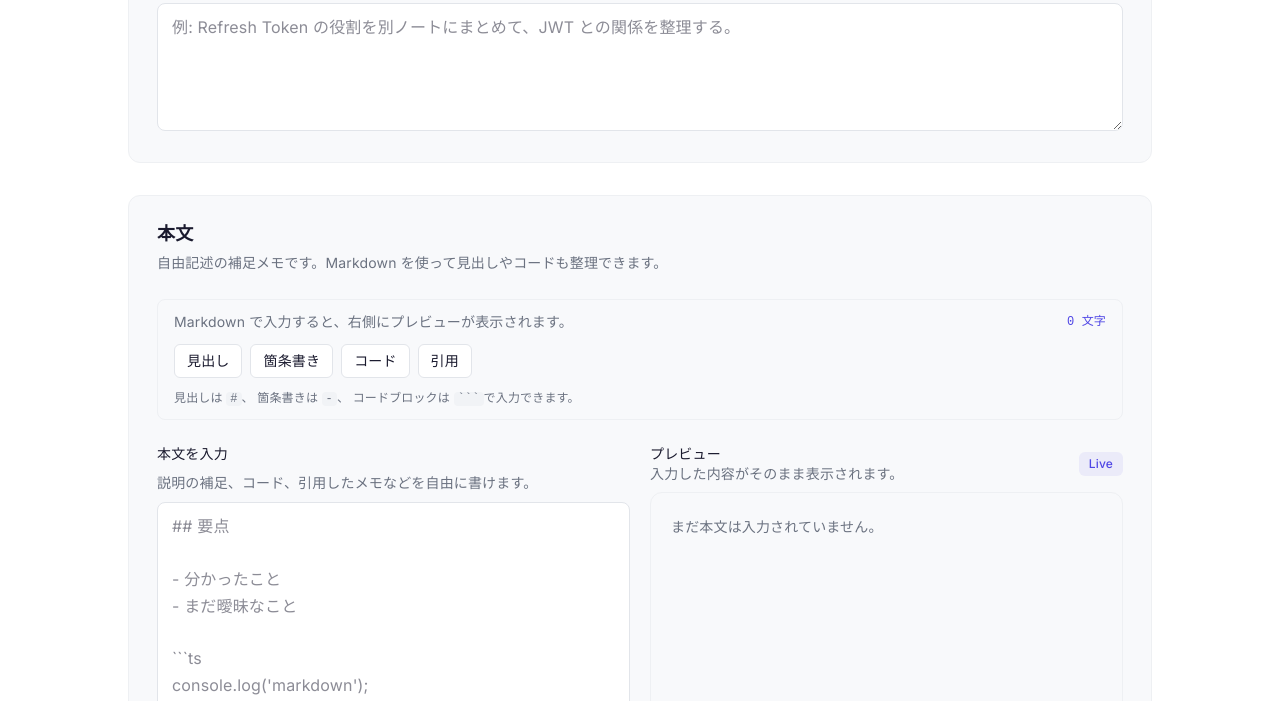
Test: NoteForm › inserts markdown snippets from the toolbar
(page scrolled)
Step 1. Click the button with aria-label "insert-code" → (375,361), box 341,344 -> 410,378
(page scrolled)
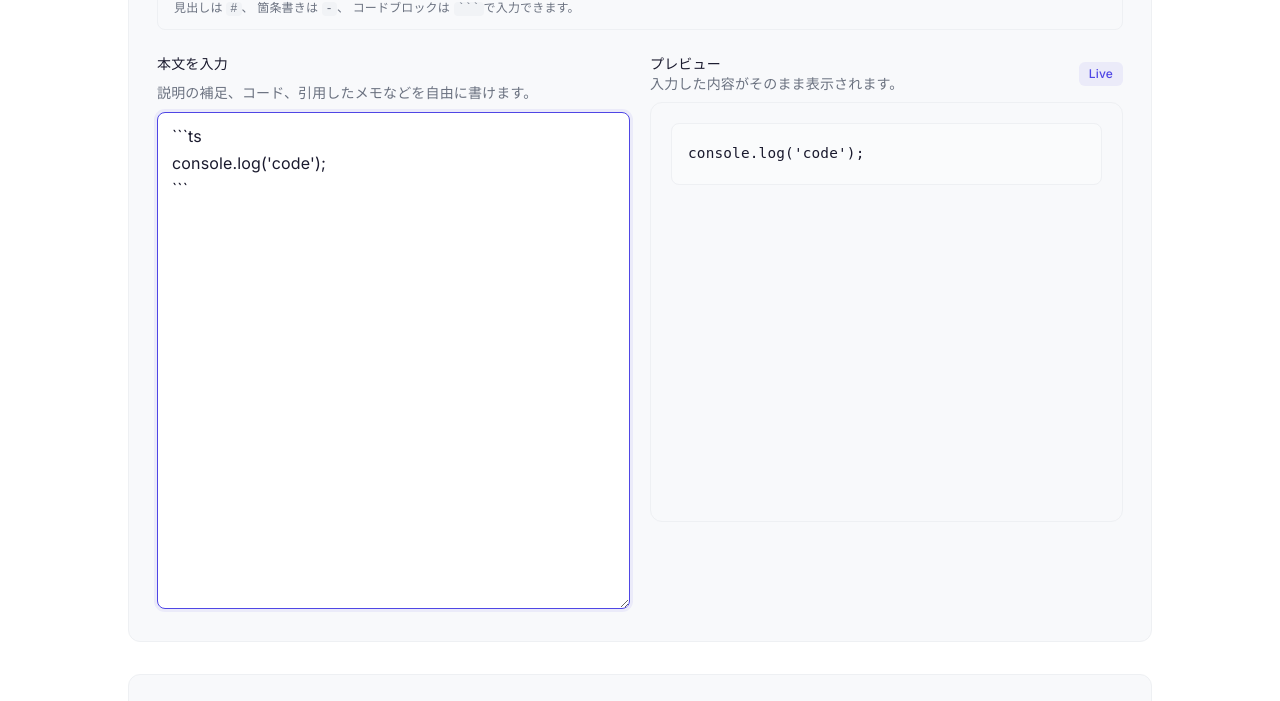
Now the text box showing "console.log('code');" is shown, box 157,112 -> 630,609
